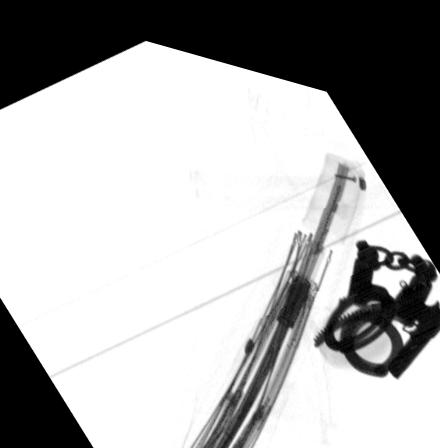Gun: (385, 257, 440, 355)
HandCuffs: (320, 217, 438, 334)
